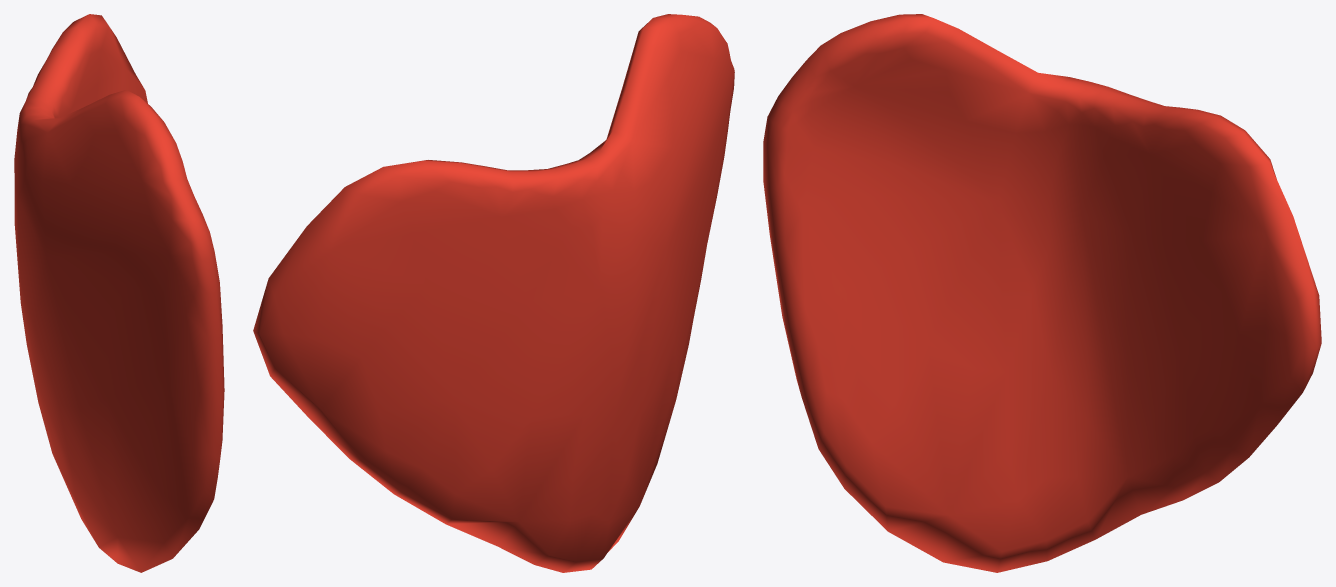
File: Common_extensor_tendon.r_Generated_Mesh_From_X3D.671.glb
The picture shows the model from 3 angles, left to right: view 1: azimuth 30°, elevation 25°; view 2: azimuth 150°, elevation 25°; view 3: azimuth 270°, elevation 25°; orthographic projection. The views are drawn at different scales.
Parts seen in each view (by area): view 1: Common_extensor_tendon.r_Generated_Mesh_From_X3D.671; view 2: Common_extensor_tendon.r_Generated_Mesh_From_X3D.671; view 3: Common_extensor_tendon.r_Generated_Mesh_From_X3D.671.
Boxes of the visible parts, bbox=[...] form: Common_extensor_tendon.r_Generated_Mesh_From_X3D.671: bbox=[14, 14, 224, 572]; Common_extensor_tendon.r_Generated_Mesh_From_X3D.671: bbox=[253, 14, 734, 572]; Common_extensor_tendon.r_Generated_Mesh_From_X3D.671: bbox=[763, 14, 1321, 572].
Size of the model in its own units: 0.0038 by 0.00738 by 0.00686.
